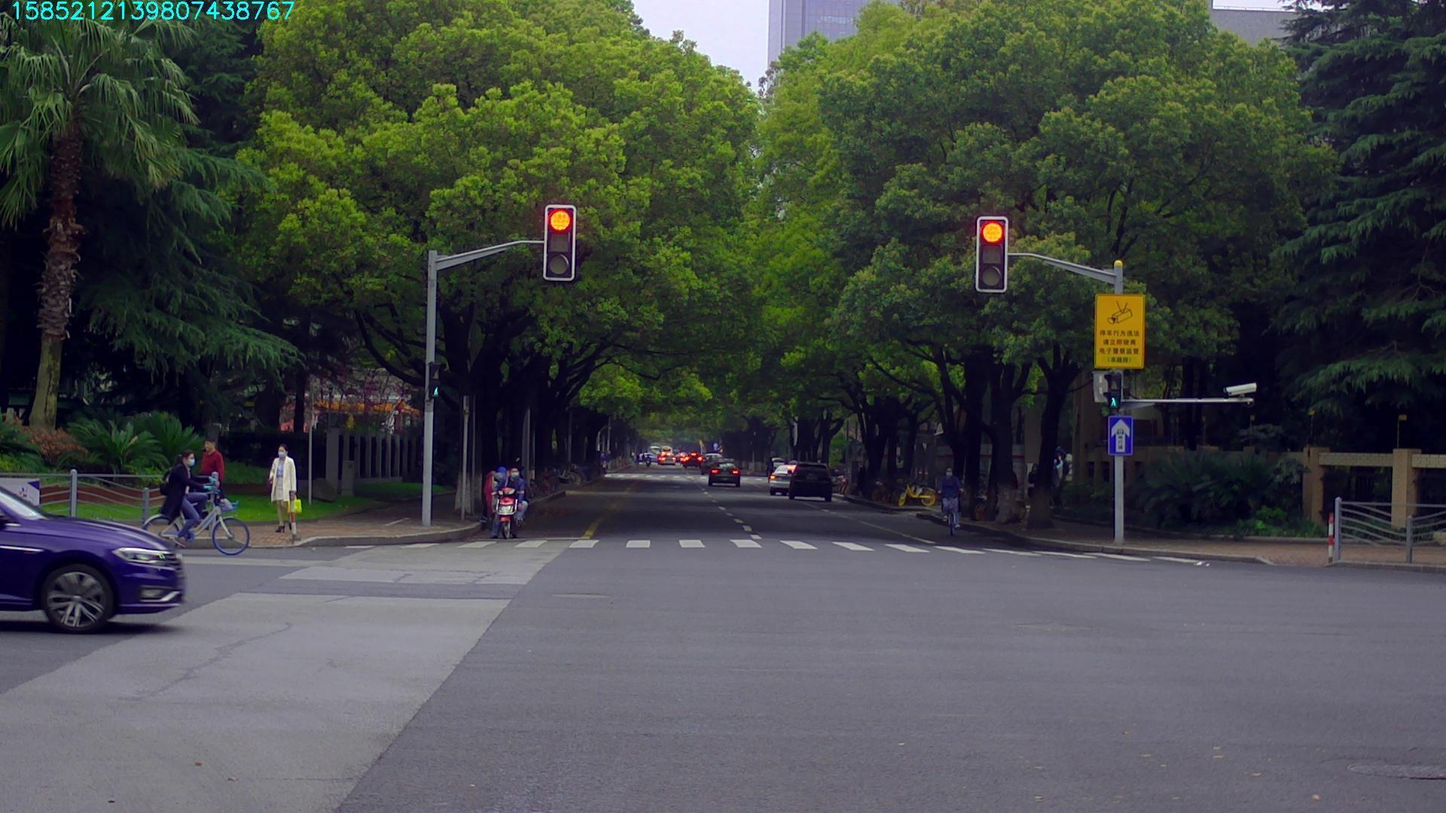red: (978, 218, 1005, 291), (546, 206, 573, 279)
